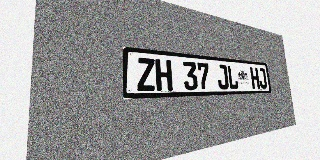3: (183, 61, 198, 90)
7: (196, 62, 211, 90)
H: (155, 59, 173, 91), (250, 67, 260, 89)
J: (216, 64, 229, 89), (258, 68, 267, 89)
L: (227, 65, 239, 89)
Z: (136, 57, 156, 91)
